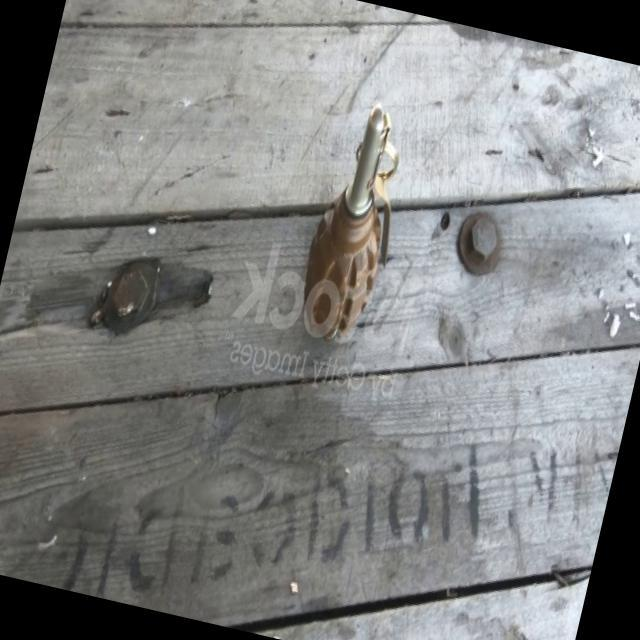grenade: (288, 98, 420, 353)
